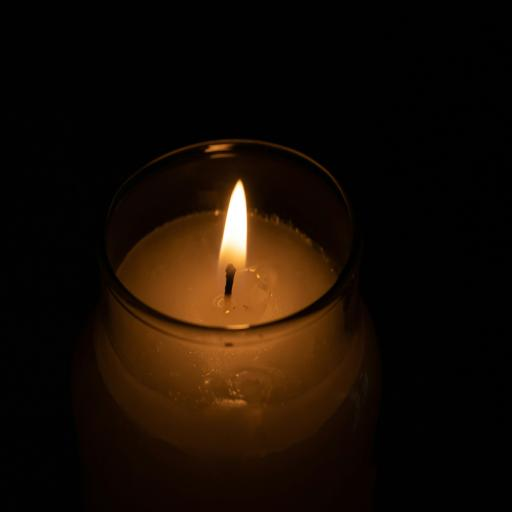candlelight: (97, 118, 372, 438)
